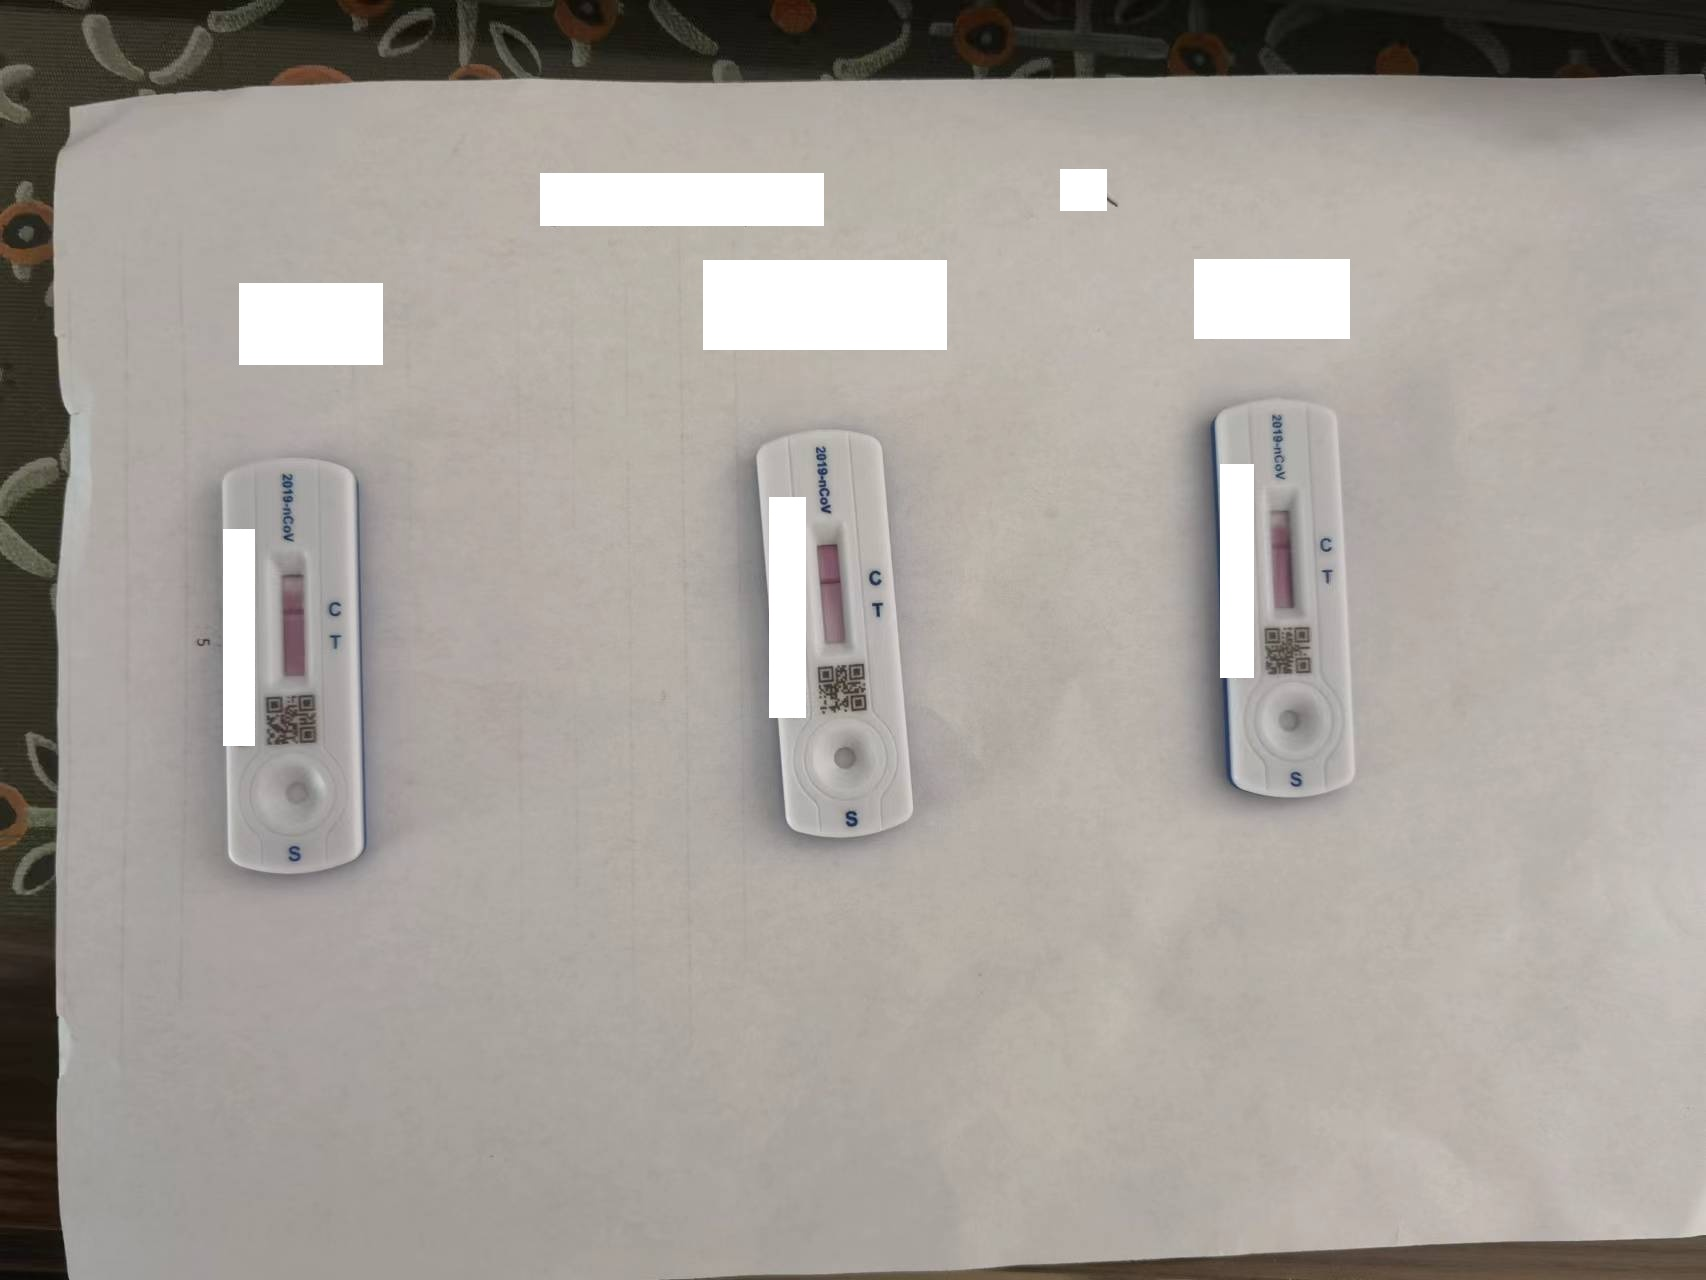negative: (262, 555, 313, 688), (1260, 483, 1305, 613), (811, 519, 852, 653)
